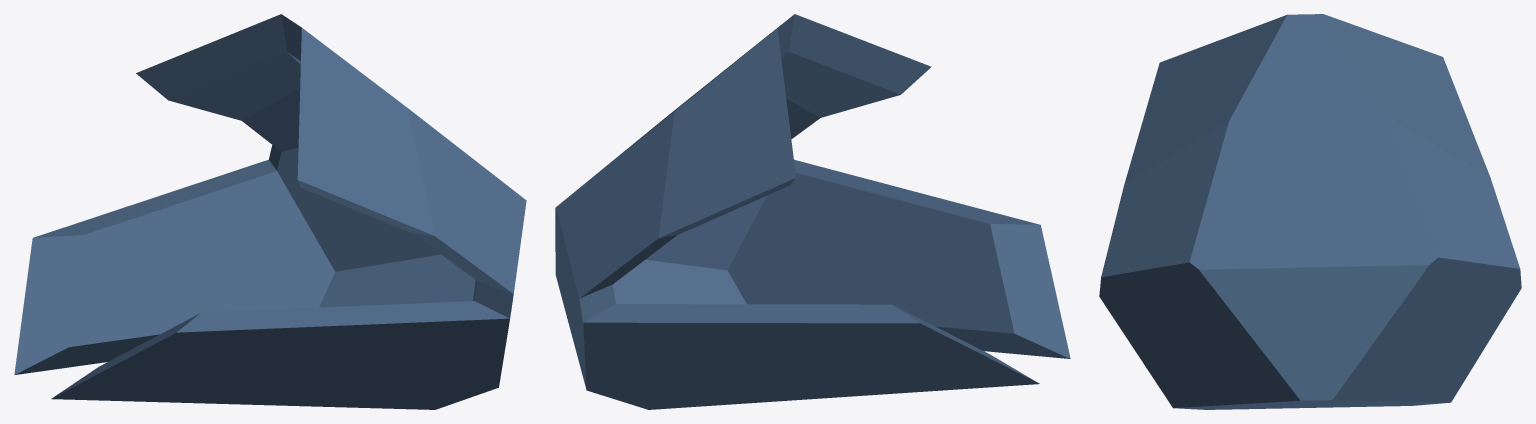
File: test.008_test.041_lev3.glb
3 renders of one model, left to right at view 1: azimuth 30°, elevation 25°; view 2: azimuth 150°, elevation 25°; view 3: azimuth 270°, elevation 25°, orthographic. The views are drawn at different scales.
Parts seen in each view (by area): view 1: test.008_test.041_lev3; view 2: test.008_test.041_lev3; view 3: test.008_test.041_lev3.
Part boxes in pixels (x1=…): test.008_test.041_lev3: x1=14, y1=14, x2=526, y2=409; test.008_test.041_lev3: x1=555, y1=14, x2=1070, y2=409; test.008_test.041_lev3: x1=1099, y1=14, x2=1521, y2=409.
Bounding box in the file's own units: 1.26 × 0.9195 × 0.9962.
